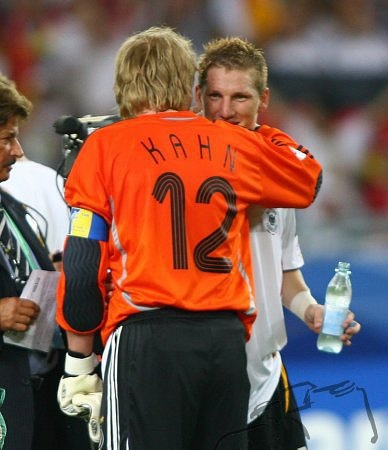face: (203, 66, 257, 140), (1, 117, 27, 183)
